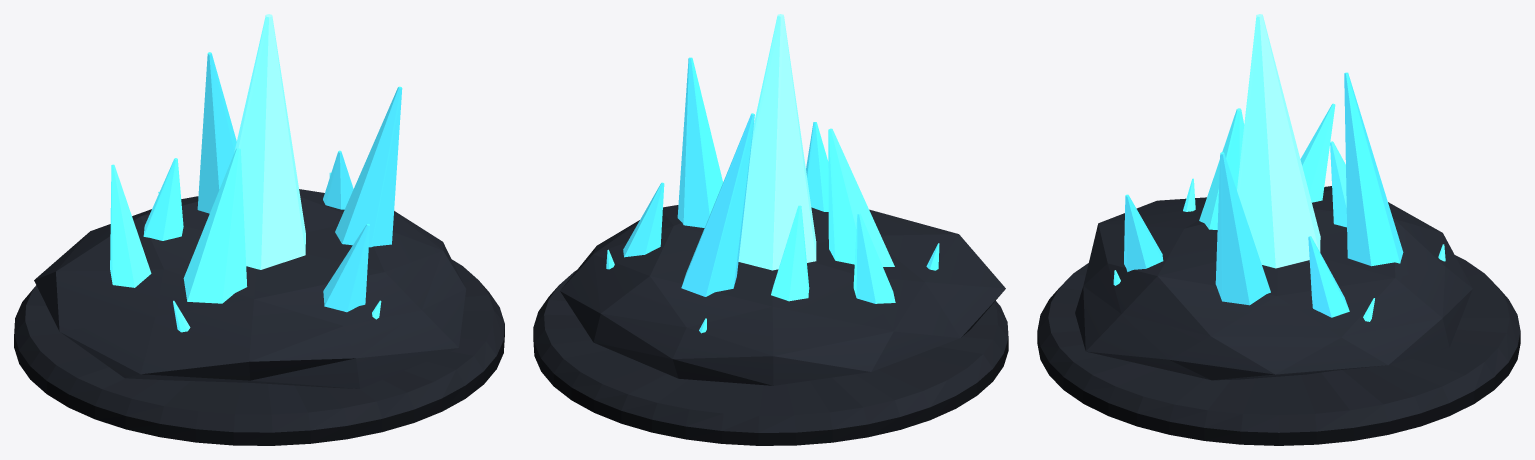
Rendered from crystal-rock-outcrop.glb.
3 renders of one model, left to right at view 1: azimuth 30°, elevation 25°; view 2: azimuth 150°, elevation 25°; view 3: azimuth 270°, elevation 25°, orthographic. The views are drawn at different scales.
Bounding box in the file's own units: 4 × 3 × 4.
